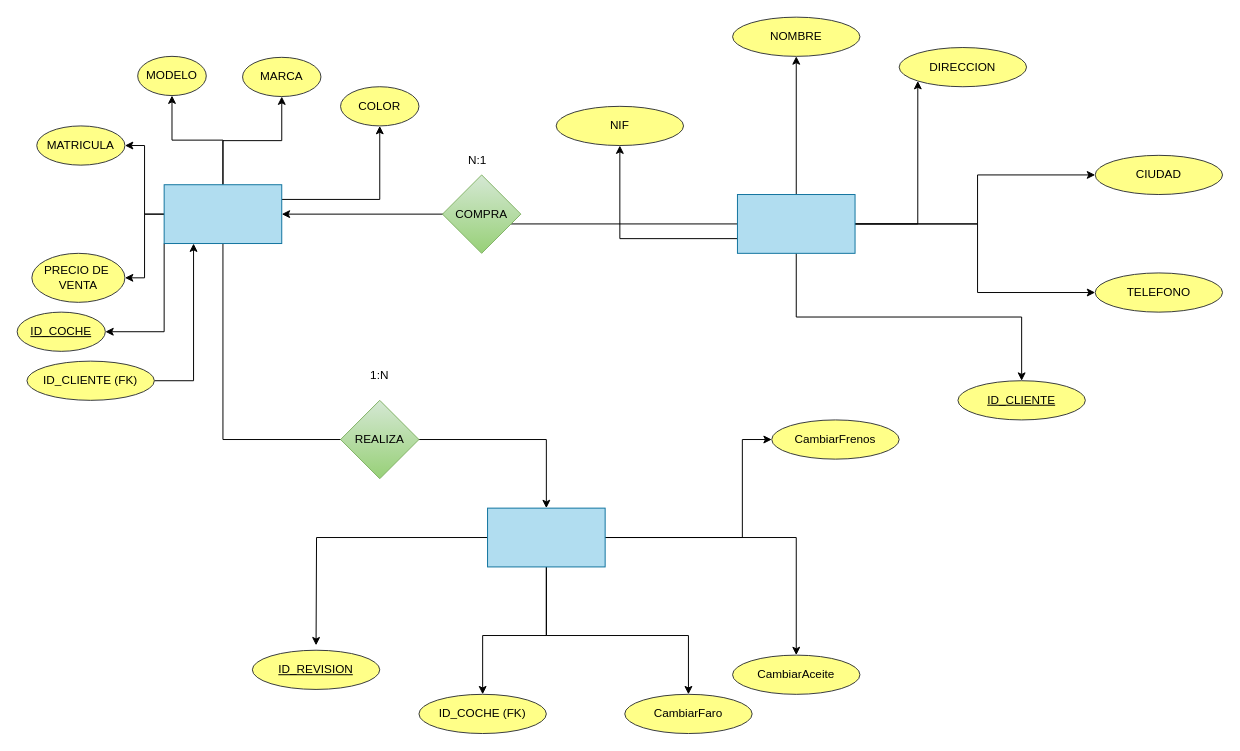
Some shapes in this 1240 by 751 pixel diagram are drawn without their labels. Each missing label, with the box of its shape:
CLIENTE: (736, 194, 855, 253)
COCHE: (163, 184, 282, 244)
REVISIÓN: (487, 507, 605, 567)
